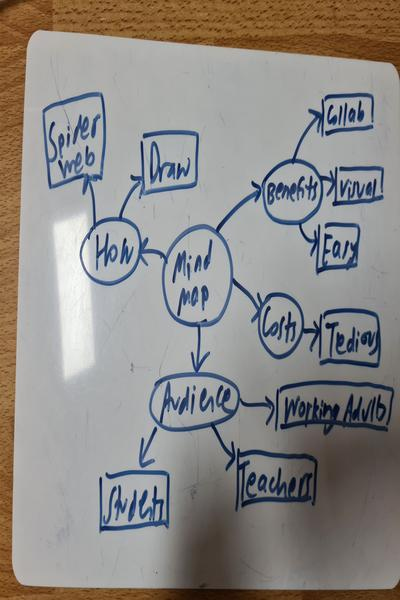arrow: (216, 182, 262, 233), (296, 109, 323, 162), (232, 276, 261, 321), (238, 396, 274, 426), (211, 426, 236, 469), (121, 175, 144, 220), (139, 426, 161, 471), (82, 176, 101, 223), (191, 323, 208, 373), (139, 239, 167, 266), (299, 220, 318, 254), (301, 320, 318, 352), (319, 169, 335, 197)
idea: (41, 91, 106, 190), (276, 381, 391, 428), (235, 450, 317, 508), (99, 471, 169, 531), (140, 130, 202, 194), (320, 309, 380, 366), (321, 93, 374, 134), (318, 223, 361, 272), (334, 166, 384, 206)
topic: (161, 225, 231, 326), (151, 373, 239, 433), (79, 216, 141, 285), (261, 160, 322, 225), (259, 290, 305, 361)
